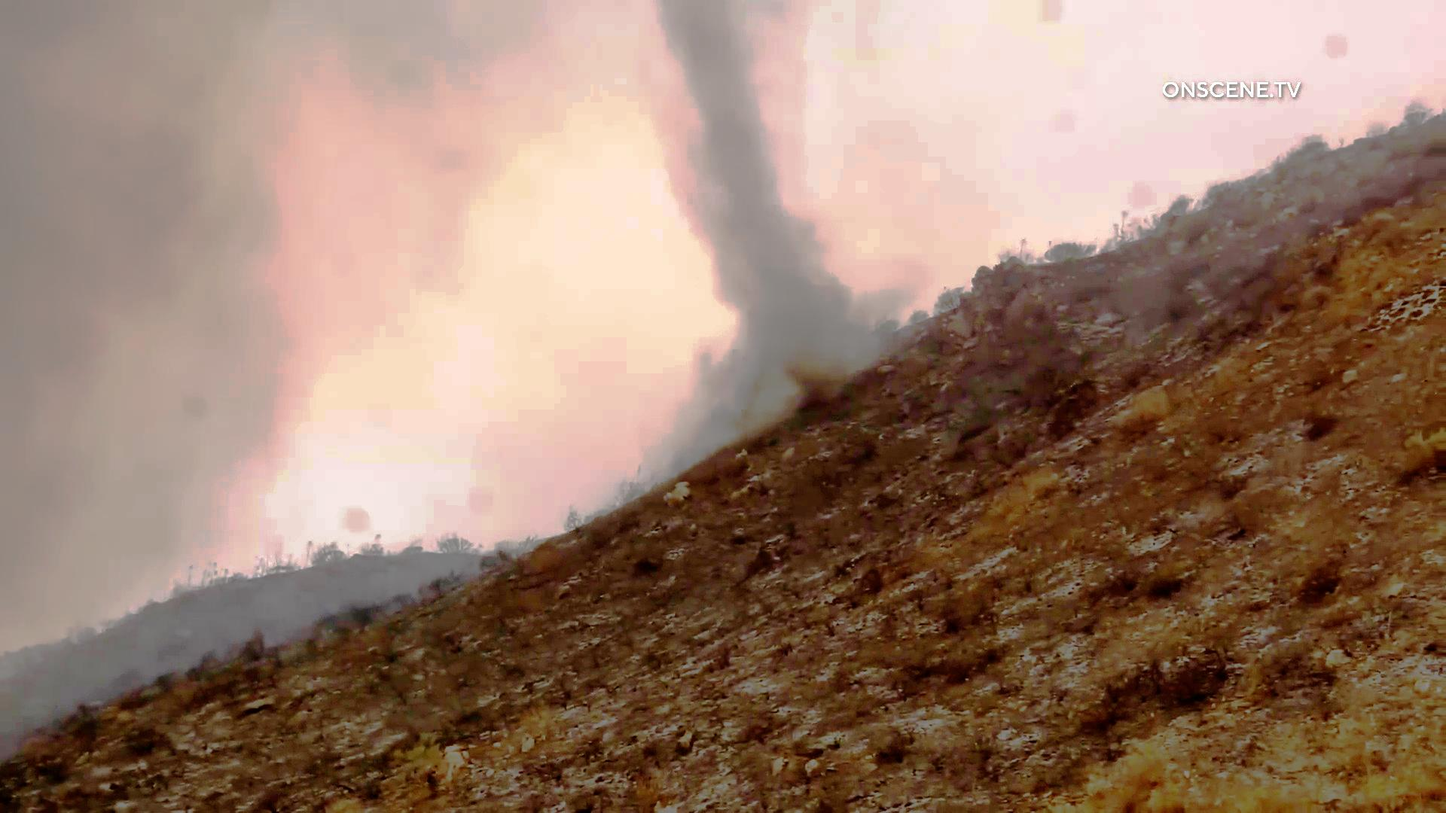smoke: (648, 12, 849, 398)
